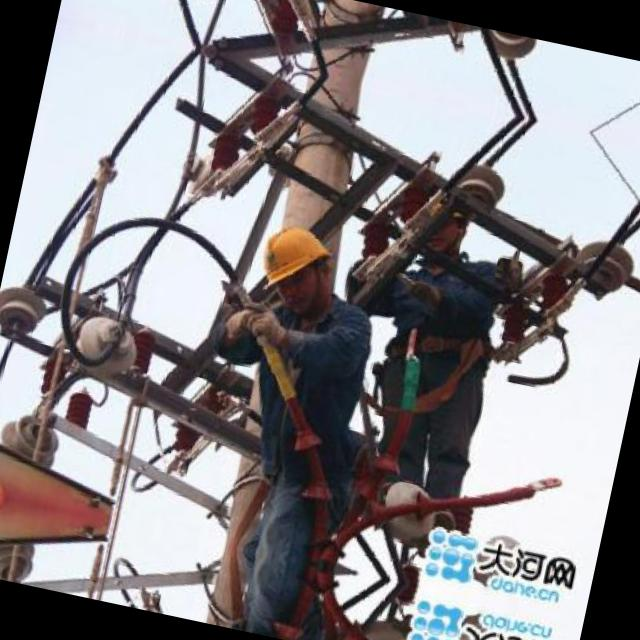helmet: (243, 212, 347, 323)
